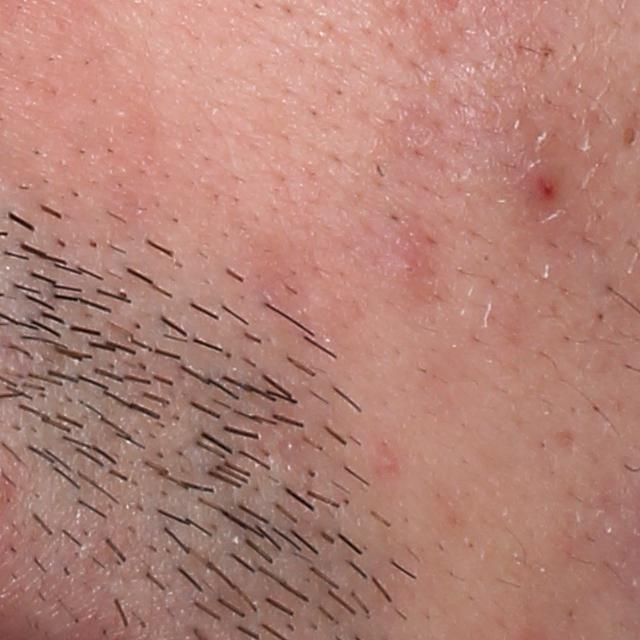papule: (531, 165, 564, 208)
